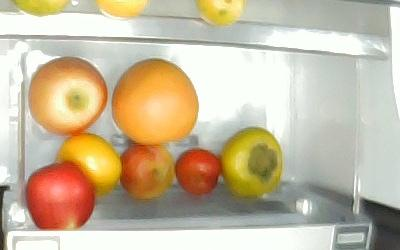apple: (27, 54, 108, 135), (24, 159, 95, 230)
grapefruit: (110, 57, 200, 144)
persimmon: (218, 125, 283, 198), (55, 131, 122, 198)
prune: (119, 141, 175, 199), (174, 147, 220, 195)
